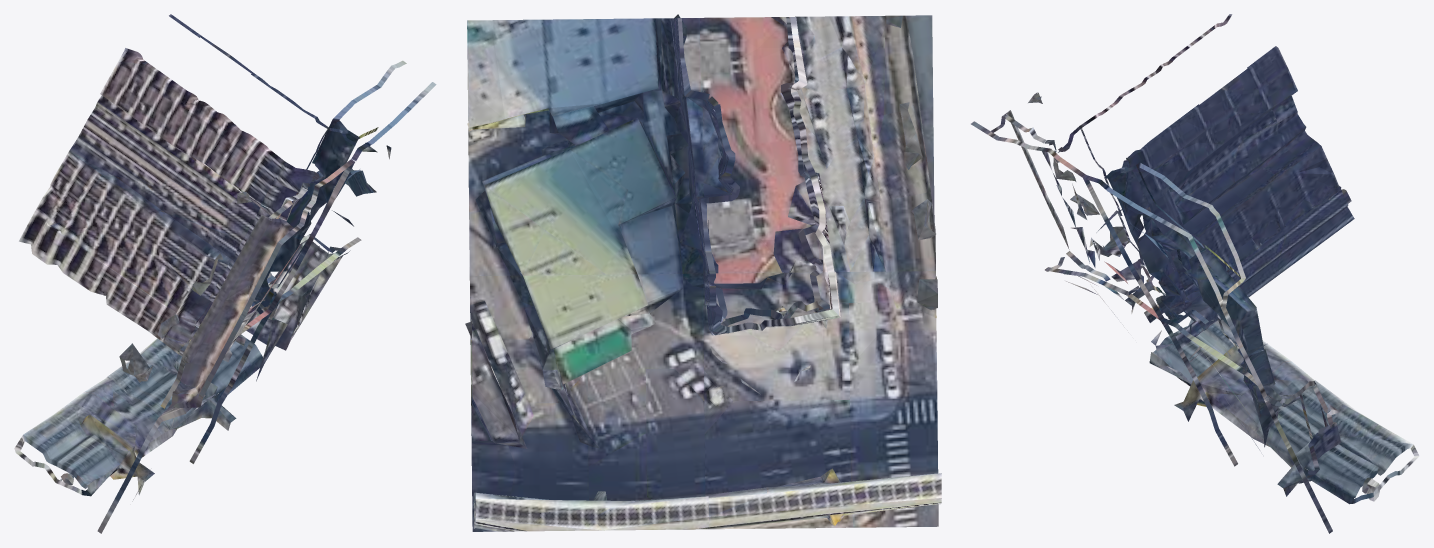
3 views of the same model, side by side, from view 1: azimuth 30°, elevation 25°; view 2: azimuth 150°, elevation 25°; view 3: azimuth 270°, elevation 25° (orthographic). The views are drawn at different scales.
Size of the model in its own units: 85.24 by 87.51 by 84.71.
2 materials, 2 textured.
